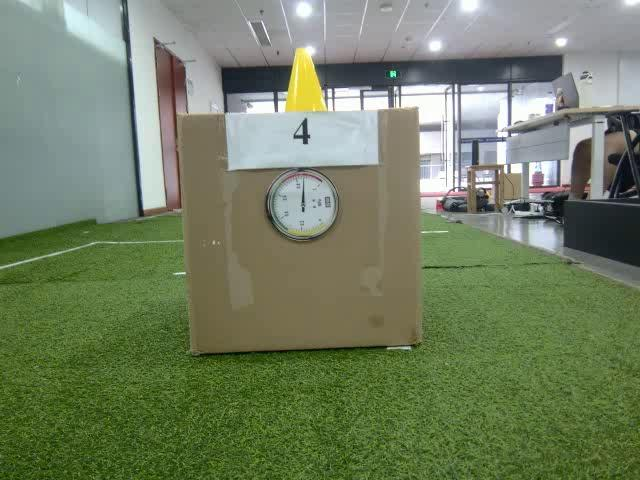4: (292, 117, 310, 145)
Dashboard: (264, 166, 338, 240)
ssi: (324, 196, 331, 208)
yellow_barrel: (279, 48, 328, 114)
